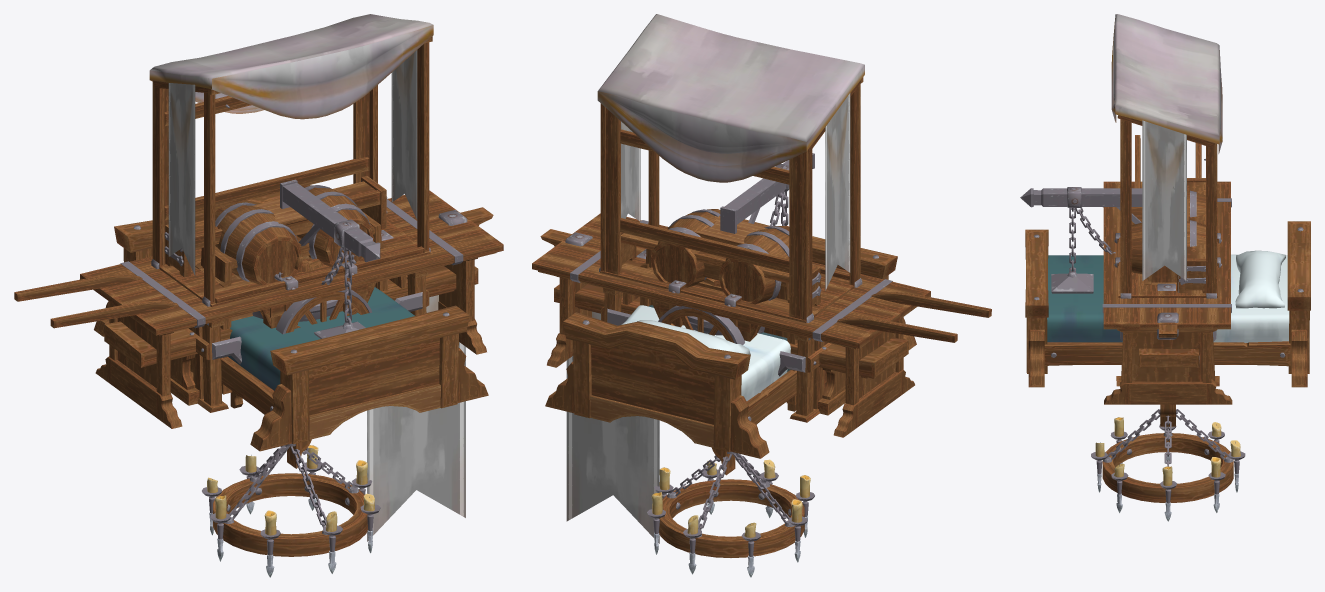
File: Props.glb
3 views of the same model, side by side, from view 1: azimuth 30°, elevation 25°; view 2: azimuth 150°, elevation 25°; view 3: azimuth 270°, elevation 25° (orthographic). The views are drawn at different scales.
Visible parts, largest first — view 1: Stall_Cart_Empty, Bed_Twin1, Stall_Empty, Table_Large, Chandelier, Banner_1, Barrel_Holder, Bench, Lantern_Wall, Cabinet, Nightstand_Shelf, Crate_Wooden; view 2: Stall_Empty, Bed_Twin1, Stall_Cart_Empty, Table_Large, Chandelier, Banner_1, Barrel_Holder, Bench, Lantern_Wall, Nightstand_Shelf, Crate_Wooden; view 3: Stall_Empty, Bed_Twin1, Table_Large, Chandelier, Stall_Cart_Empty, Lantern_Wall, Barrel_Holder, Bench, Banner_1.
Boxes of the visible parts, x1,y1,x2,y2 form: Stall_Cart_Empty: (14, 20, 433, 398); Bed_Twin1: (94, 192, 488, 451); Stall_Empty: (149, 14, 429, 412); Table_Large: (80, 190, 503, 428); Chandelier: (202, 443, 380, 577); Banner_1: (287, 207, 493, 541); Barrel_Holder: (195, 185, 387, 394); Bench: (104, 266, 478, 405); Lantern_Wall: (280, 179, 380, 338); Cabinet: (201, 211, 381, 321); Nightstand_Shelf: (252, 199, 313, 256); Crate_Wooden: (261, 261, 368, 328); Stall_Empty: (597, 28, 864, 422); Bed_Twin1: (545, 219, 916, 458); Stall_Cart_Empty: (598, 14, 991, 409); Table_Large: (532, 213, 930, 437); Chandelier: (647, 451, 814, 577); Banner_1: (540, 229, 735, 543); Barrel_Holder: (640, 209, 821, 405); Bench: (554, 284, 908, 415); Lantern_Wall: (720, 153, 814, 233); Nightstand_Shelf: (694, 215, 767, 245); Crate_Wooden: (658, 280, 759, 341); Stall_Empty: (1115, 19, 1222, 386); Bed_Twin1: (1025, 221, 1310, 387); Table_Large: (1102, 181, 1232, 404); Chandelier: (1091, 409, 1245, 521); Stall_Cart_Empty: (1111, 14, 1222, 298); Lantern_Wall: (1020, 187, 1142, 293); Barrel_Holder: (1131, 190, 1205, 284); Bench: (1139, 348, 1199, 367); Banner_1: (1157, 283, 1178, 426).
Size of the model in its own units: 3.72 by 4.18 by 2.46.
4 materials, 4 textured.
